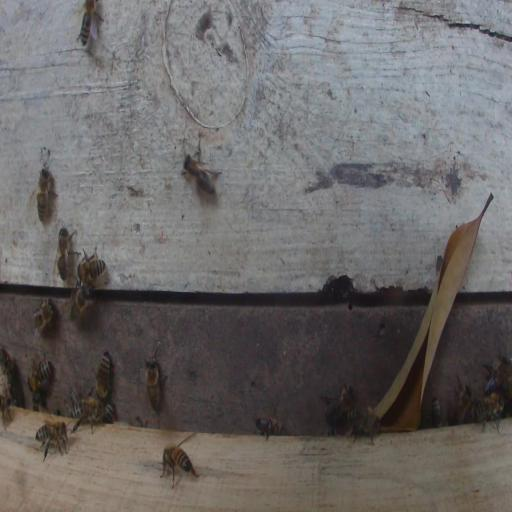nonpollenbee: (180, 148, 218, 200), (161, 443, 196, 488), (35, 418, 69, 462), (321, 382, 355, 424), (34, 162, 57, 223), (346, 406, 381, 443), (473, 393, 504, 433), (56, 225, 77, 282), (76, 2, 101, 49), (71, 396, 103, 431), (78, 247, 107, 285), (145, 351, 162, 411), (28, 358, 54, 395), (484, 357, 510, 394), (71, 281, 93, 320), (94, 350, 111, 400), (33, 297, 55, 334), (454, 378, 472, 421), (255, 415, 284, 440), (0, 344, 16, 382), (0, 390, 12, 430), (430, 396, 442, 427)
pollenbee: (102, 403, 116, 424)
